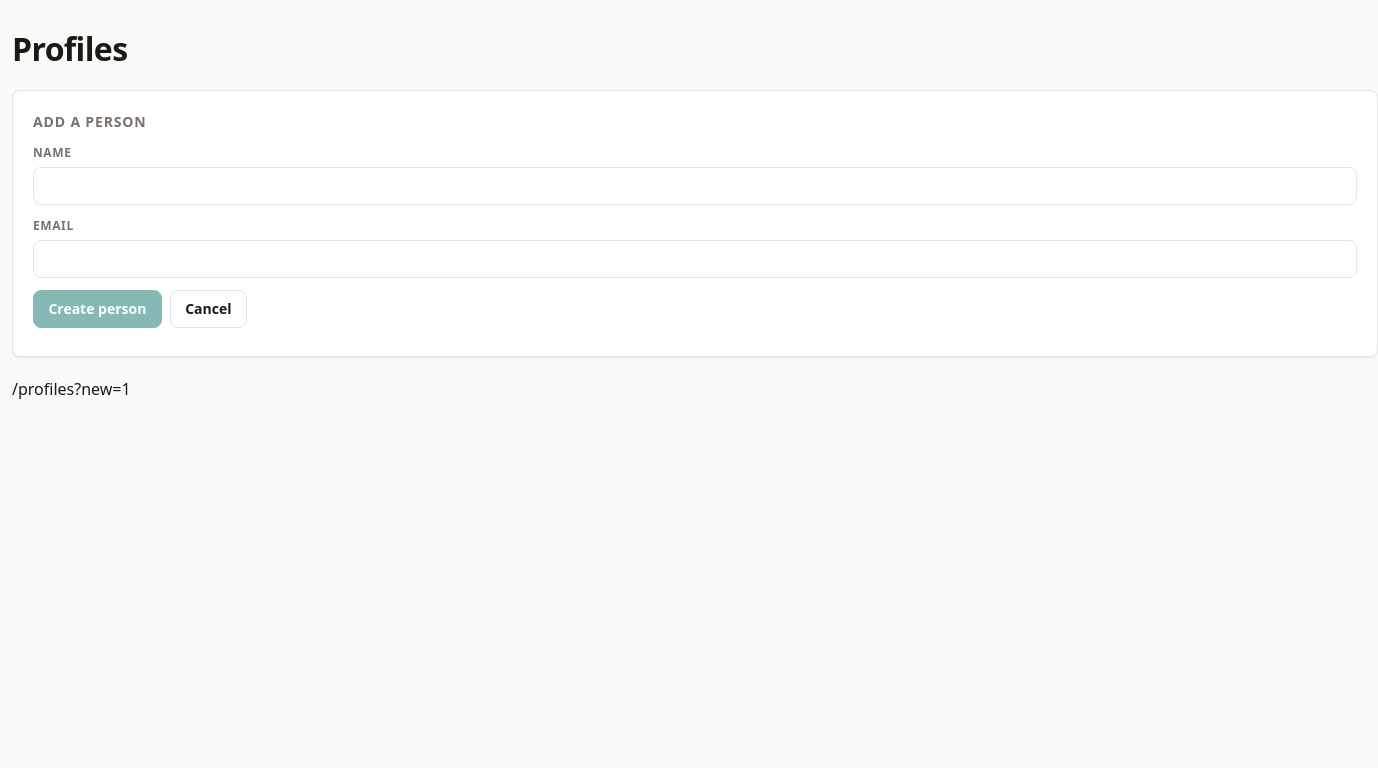
Scenario: ProfileScreen › creating from ?new=1 drops the parameter after the new person is selected
The width and height of the screenshot is (1378, 768).
In the field labelled "Name": (695, 186) 33,167 -> 1357,205, type "Sam Lee"
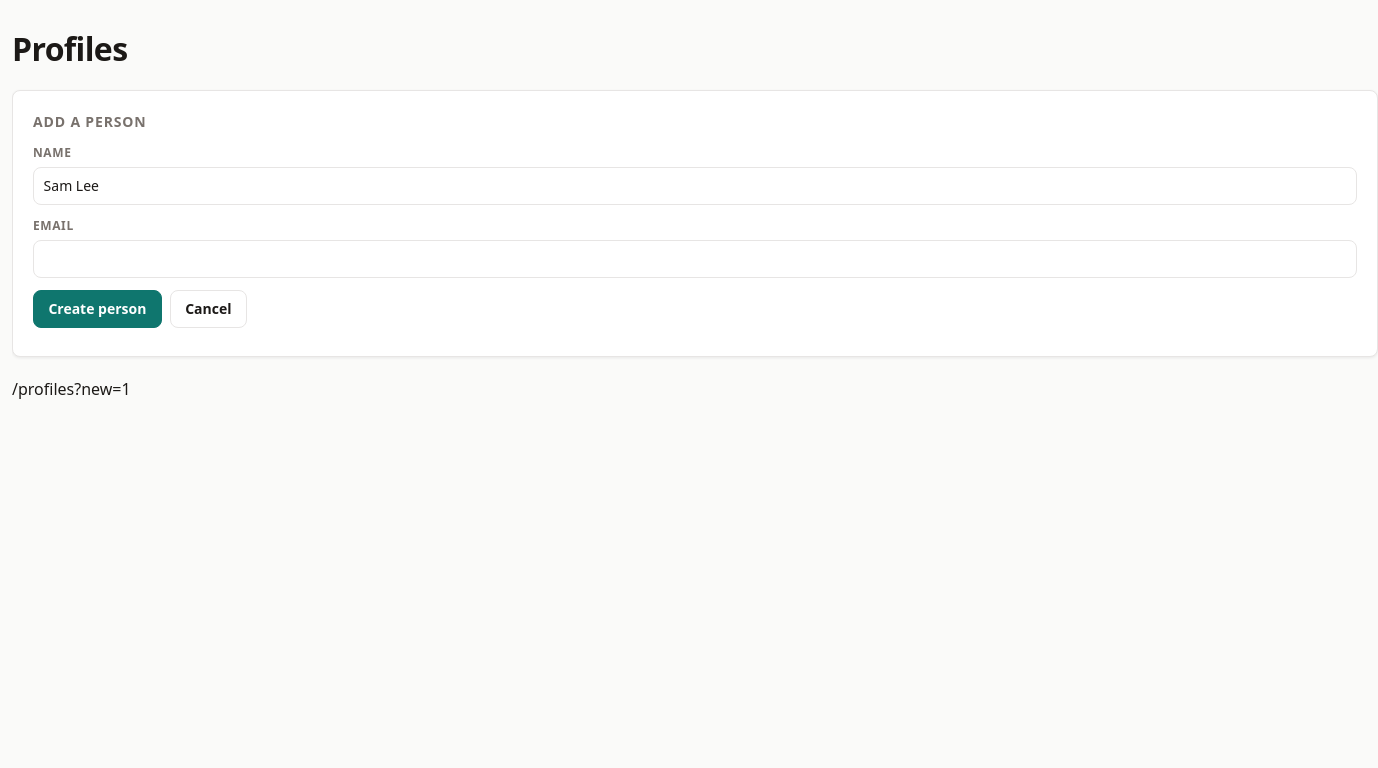
Click the button "Create person": (97, 309) 33,290 -> 162,328
(page scrolled)
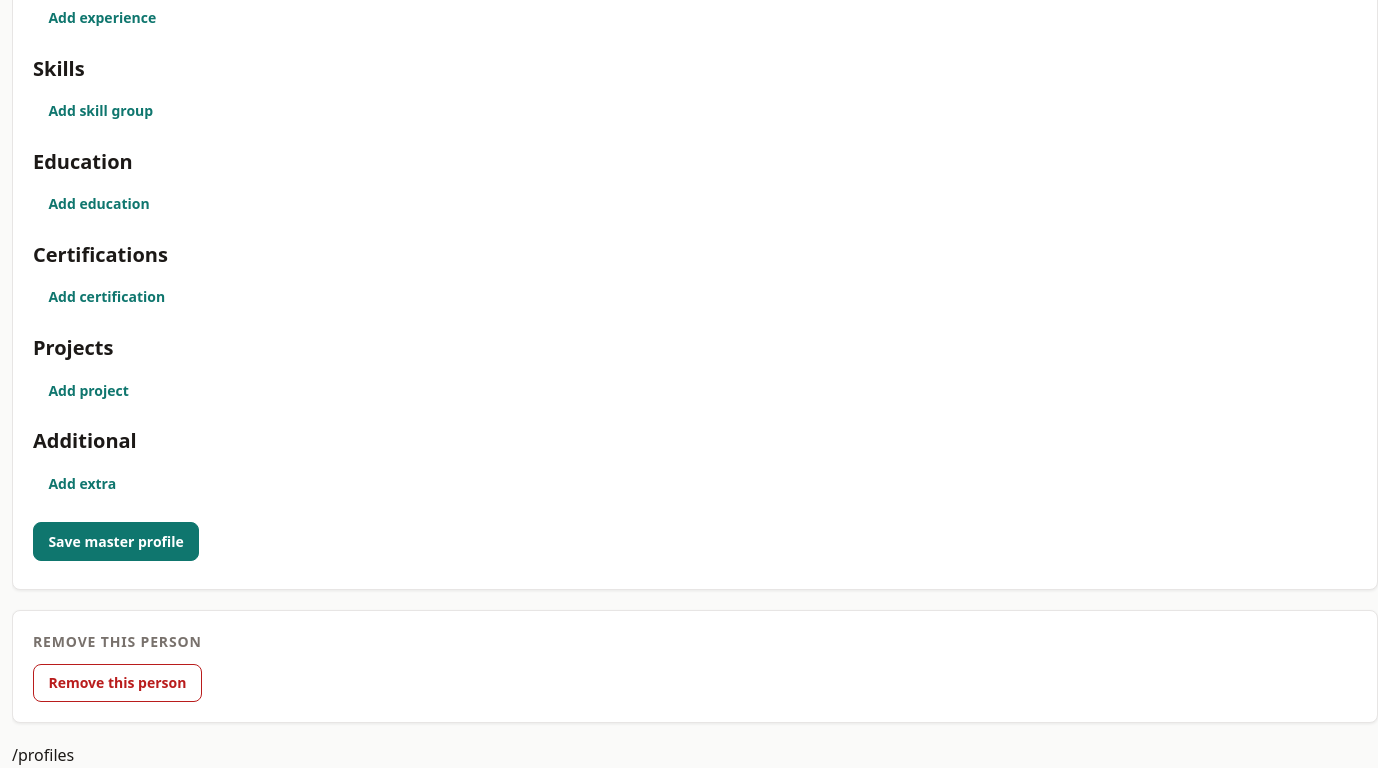
Expected: the text with test id "location" reads "/profiles", 12,744 -> 74,766
